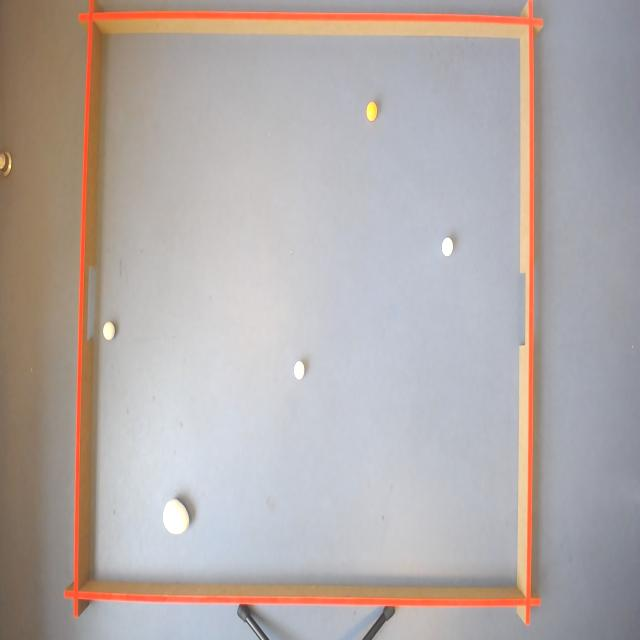corner: (517, 1, 544, 46), (64, 574, 88, 623), (517, 580, 541, 628), (80, 0, 102, 38)
